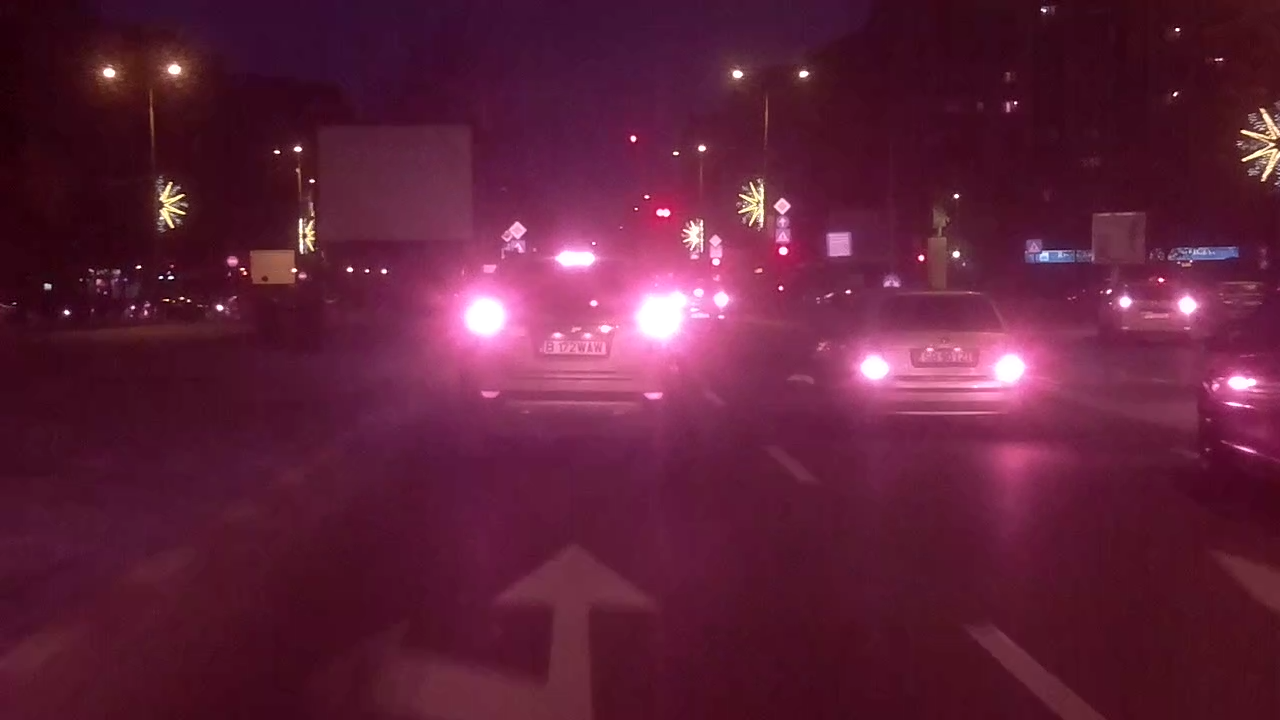license-plate: (532, 337, 609, 358)
